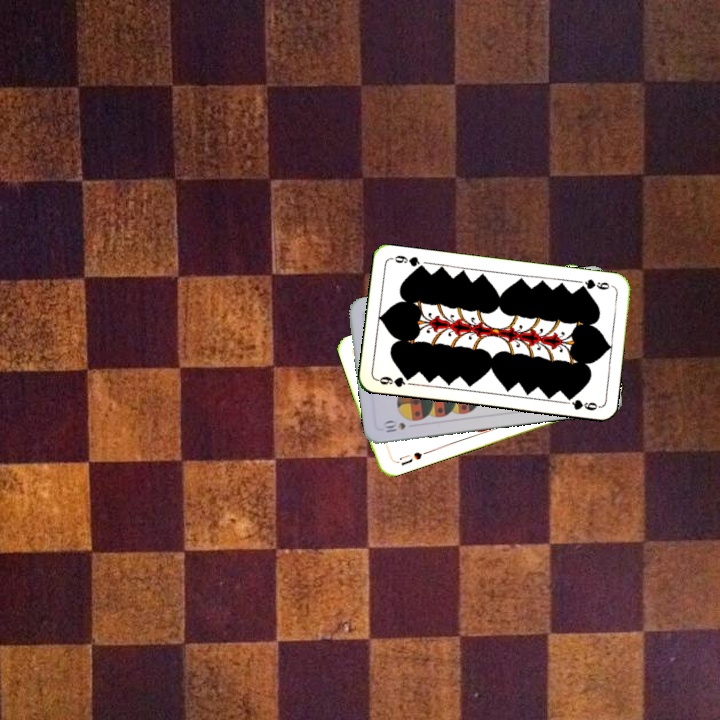G9: (373, 371, 414, 390), (574, 275, 615, 292)
S10: (381, 417, 408, 435)
SU: (389, 448, 424, 466)
